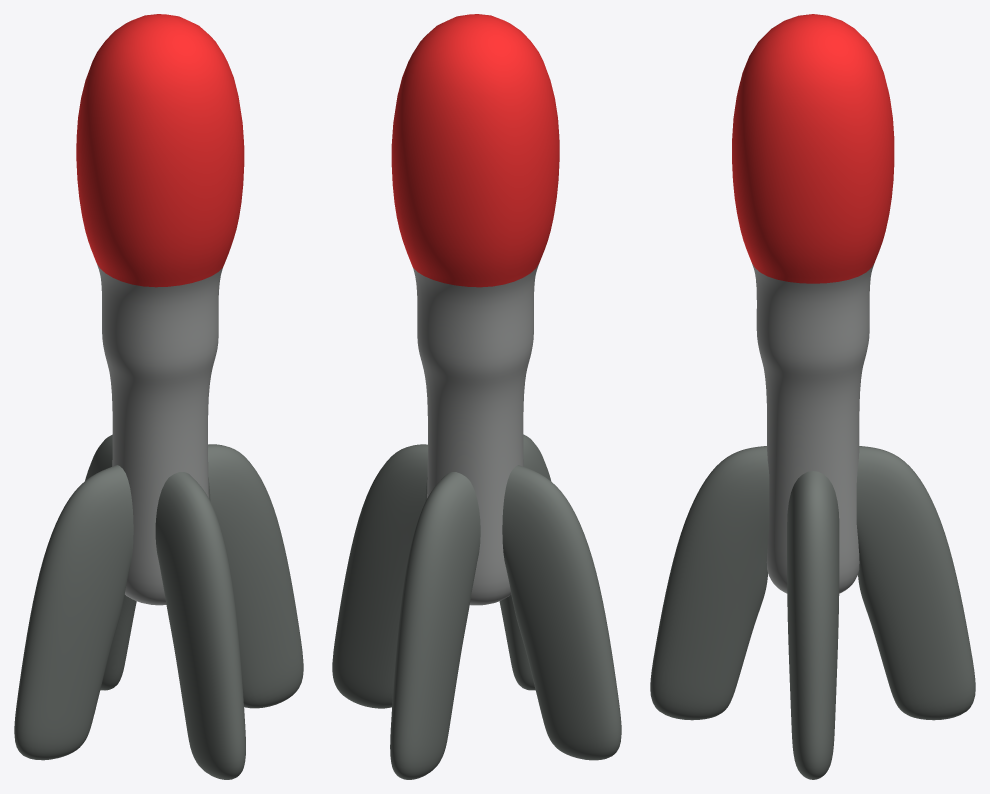
The model's file is Ammo-1.fbx.
The picture shows the model from 3 angles, left to right: view 1: azimuth 30°, elevation 25°; view 2: azimuth 150°, elevation 25°; view 3: azimuth 270°, elevation 25°; orthographic projection.
Parts seen in each view (by area): view 1: Ammo-1; view 2: Ammo-1; view 3: Ammo-1.
Part boxes in pixels (<box>): Ammo-1: <box>14,14,303,779</box>; Ammo-1: <box>332,14,621,779</box>; Ammo-1: <box>650,14,975,779</box>.
Size of the model in its own units: 60.61 by 144 by 60.44.
